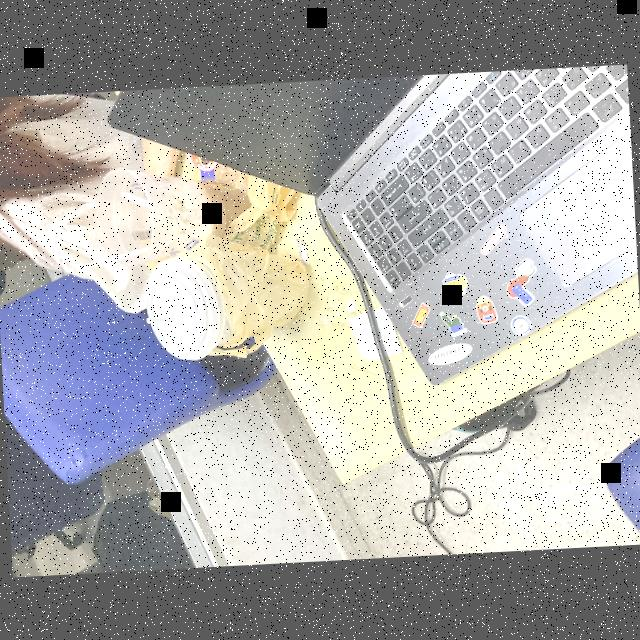plastic_bag: (175, 226, 314, 360), (216, 158, 302, 255)
plastic_cup: (138, 230, 312, 360), (90, 160, 258, 267)
plastic_cup_lid: (134, 252, 223, 366)
plastic_spoon: (120, 186, 168, 218)
scrap_paper: (342, 304, 404, 365)
scrap_plastic: (313, 272, 369, 338), (287, 233, 314, 265)
straw: (82, 244, 152, 271), (143, 309, 184, 325)
